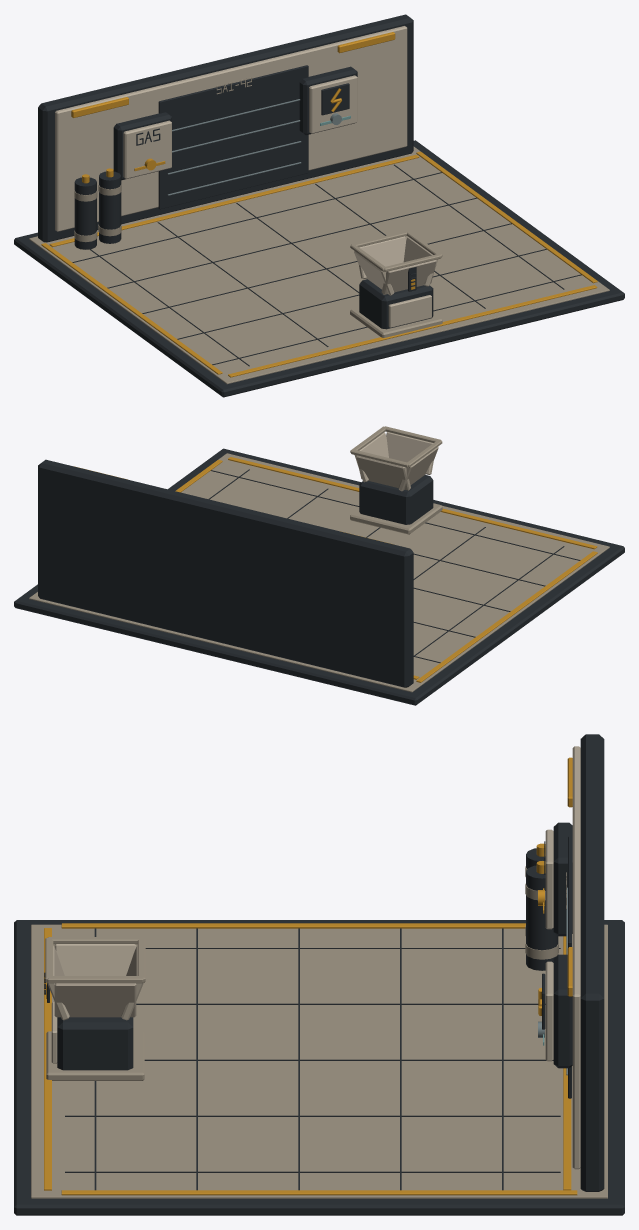
File: sai92_bay_d0_lod1.glb
The picture shows the model from 3 angles, top to bottom: view 1: azimuth 30°, elevation 25°; view 2: azimuth 150°, elevation 25°; view 3: azimuth 270°, elevation 25°; orthographic projection. The views are drawn at different scales.
Visible parts, largest first — view 1: BAY_SURFACE, ORE_RECEIVER_SURFACE; view 2: BAY_SURFACE, ORE_RECEIVER_SURFACE; view 3: BAY_SURFACE, ORE_RECEIVER_SURFACE.
Part boxes in pixels (x1,y1,x2,y2): BAY_SURFACE: [14, 14, 624, 397]; ORE_RECEIVER_SURFACE: [350, 230, 442, 337]; BAY_SURFACE: [14, 448, 624, 705]; ORE_RECEIVER_SURFACE: [350, 426, 442, 534]; BAY_SURFACE: [14, 734, 624, 1215]; ORE_RECEIVER_SURFACE: [45, 937, 145, 1080].
Bounding box in the file's own units: 10 × 3.4 × 9.
